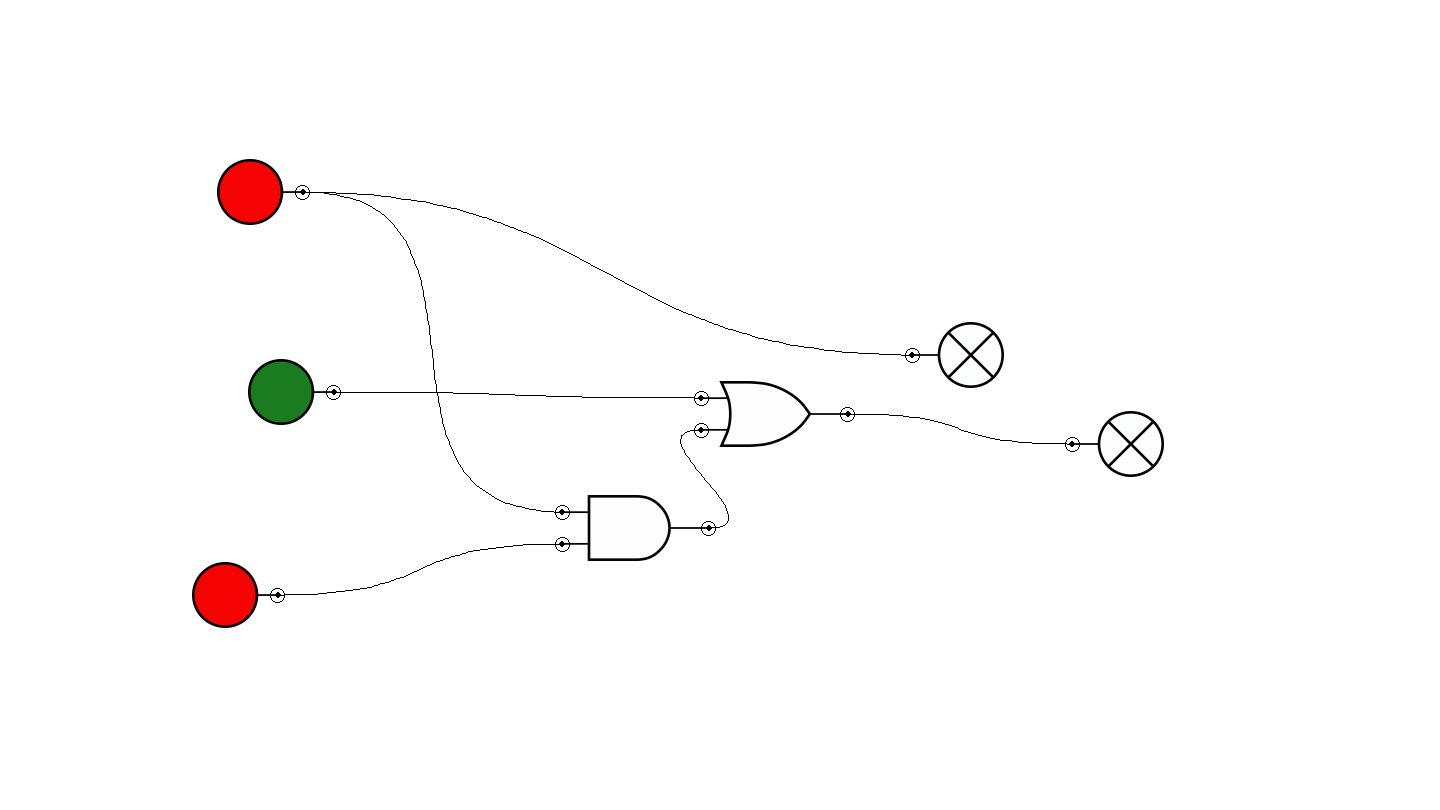and: (555, 495, 716, 561)
bulb: (1065, 411, 1164, 477), (905, 322, 1004, 388)
or: (694, 381, 855, 447)
switch_False: (192, 562, 285, 628), (217, 159, 310, 225)
switch_True: (248, 359, 341, 425)
